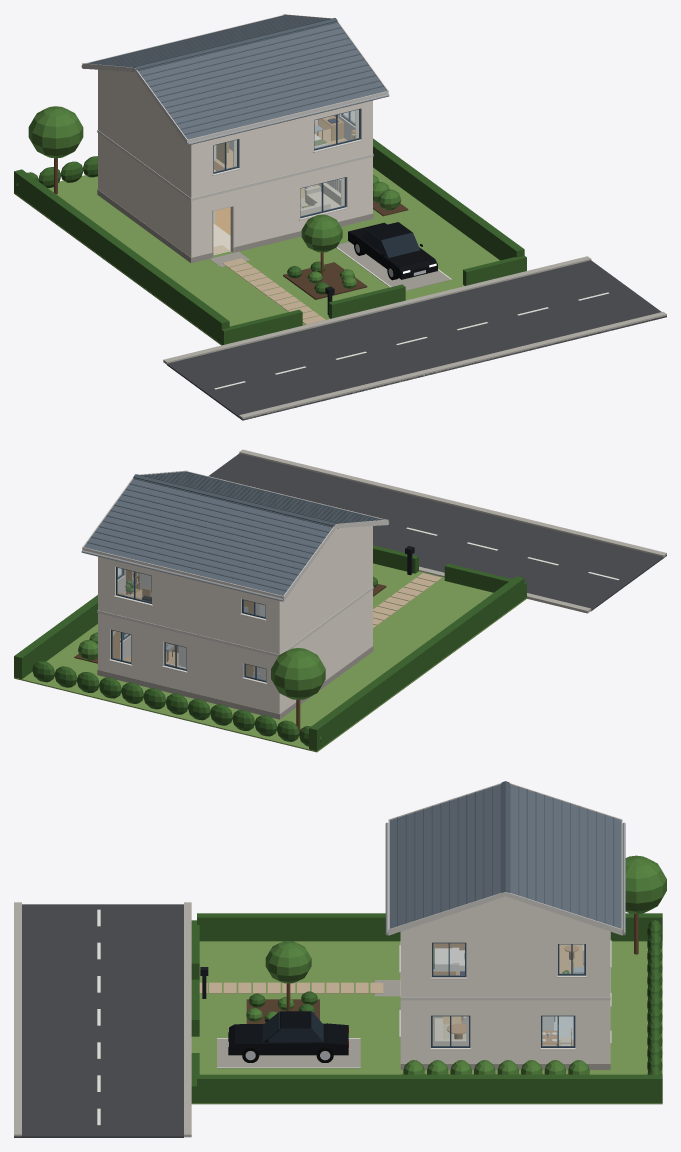
The model's file is hades-house.glb.
3 views of the same model, one above another, from view 1: azimuth 30°, elevation 25°; view 2: azimuth 150°, elevation 25°; view 3: azimuth 270°, elevation 25° (orthographic). The views are drawn at different scales.
Parts seen in each view (by area): view 1: road, ground, outer_wall_S, roof_S, boundary_hedge, outer_wall_W, roof_courses, front_yard, eaves, back_yard, black_car_01, roof_N (+10 smaller); view 2: road, outer_wall_N, roof_N, ground, boundary_hedge, outer_wall_W, roof_courses, back_yard, eaves, roof_S, plinth, front_yard (+6 smaller); view 3: road, outer_wall_E, ground, boundary_hedge, roof_N, roof_S, front_yard, roof_courses, black_car_01, back_yard, eaves, gable_E (+13 smaller).
Part boxes in pixels (bbox=[...]): road: bbox=[163, 256, 666, 420]; ground: bbox=[14, 167, 499, 345]; outer_wall_S: bbox=[189, 100, 372, 257]; roof_S: bbox=[138, 22, 386, 139]; boundary_hedge: bbox=[14, 138, 526, 344]; outer_wall_W: bbox=[100, 70, 188, 255]; roof_courses: bbox=[89, 15, 383, 134]; front_yard: bbox=[210, 214, 367, 324]; eaves: bbox=[81, 14, 389, 145]; back_yard: bbox=[16, 106, 97, 194]; black_car_01: bbox=[348, 222, 437, 280]; roof_N: bbox=[86, 15, 326, 71]; road: bbox=[208, 449, 666, 613]; outer_wall_N: bbox=[98, 556, 281, 713]; roof_N: bbox=[84, 479, 332, 595]; ground: bbox=[14, 563, 526, 752]; boundary_hedge: bbox=[14, 545, 526, 750]; outer_wall_W: bbox=[282, 526, 370, 711]; roof_courses: bbox=[87, 471, 381, 591]; back_yard: bbox=[32, 648, 325, 746]; eaves: bbox=[81, 470, 389, 601]; roof_S: bbox=[143, 471, 384, 528]; plinth: bbox=[97, 645, 373, 719]; front_yard: bbox=[373, 573, 441, 628]; road: bbox=[14, 902, 191, 1137]; outer_wall_E: bbox=[406, 925, 604, 1063]; ground: bbox=[191, 941, 662, 1104]; boundary_hedge: bbox=[191, 913, 662, 1102]; roof_N: bbox=[510, 784, 621, 928]; roof_S: bbox=[389, 784, 500, 928]; front_yard: bbox=[199, 941, 400, 1023]; roof_courses: bbox=[397, 783, 614, 926]; black_car_01: bbox=[228, 1011, 348, 1062]; back_yard: bbox=[625, 855, 666, 1074]; eaves: bbox=[385, 781, 625, 935]; gable_E: bbox=[419, 896, 591, 925].
Size of the model in its own units: 21 by 8.06 by 24.97.
